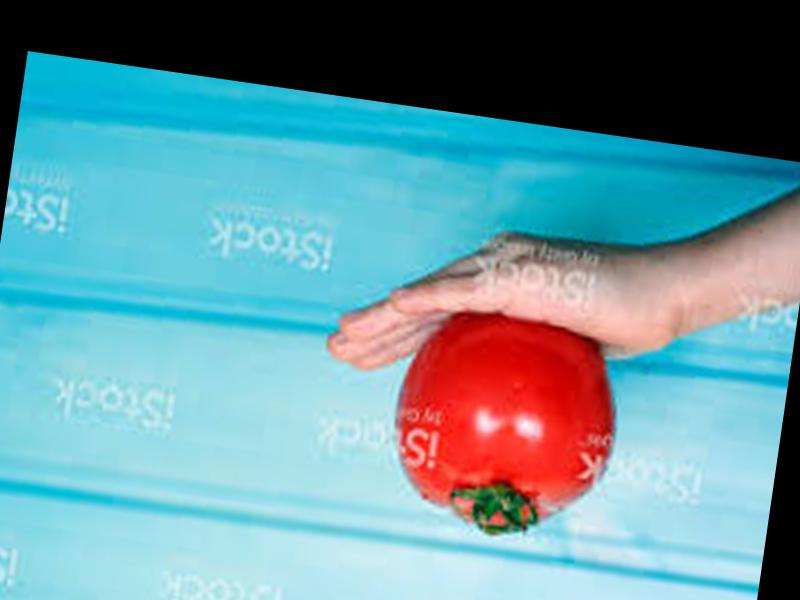Tomato: (380, 301, 624, 546)
